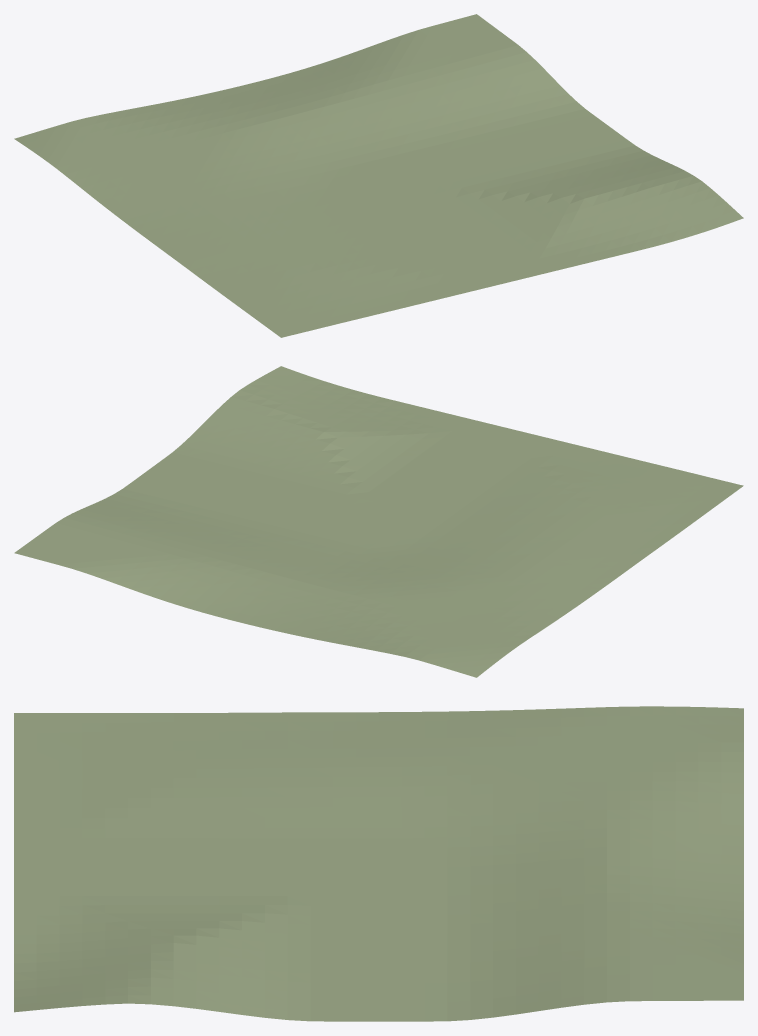
Rendered from gardens-2-5.glb.
The picture shows the model from 3 angles, top to bottom: view 1: azimuth 30°, elevation 25°; view 2: azimuth 150°, elevation 25°; view 3: azimuth 270°, elevation 25°; orthographic projection. The views are drawn at different scales.
Visible parts, largest first — view 1: gardens-2-5; view 2: gardens-2-5; view 3: gardens-2-5.
Part boxes in pixels (bbox=[...]): gardens-2-5: bbox=[14, 14, 743, 337]; gardens-2-5: bbox=[14, 366, 743, 677]; gardens-2-5: bbox=[14, 706, 743, 1021].
Size of the model in its own units: 256 by 8.1 by 256.
